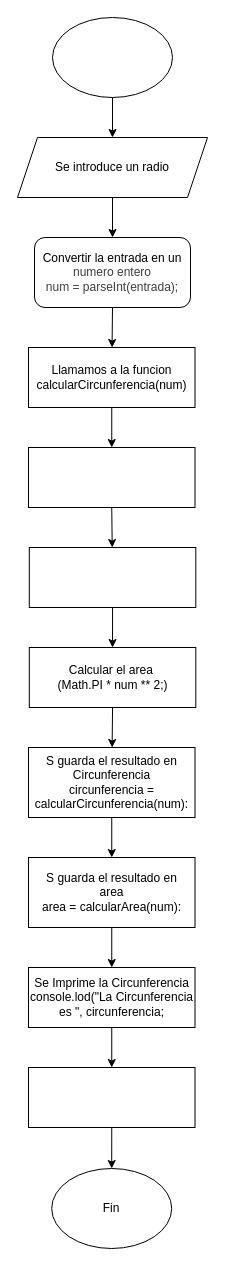
This 225x1266 diagram has some shape labels left out. Each missing label, with the centre of its shape:
Calcular la Cricunferncia (Math.PI * num * 2;): [111,477]
Inicio: [112,57]
Llamamos a la funcion calcularArea(num): [112,577]
Se Imprime el area del circulo console.lod("El area del circulo es ", area;: [111,1097]
